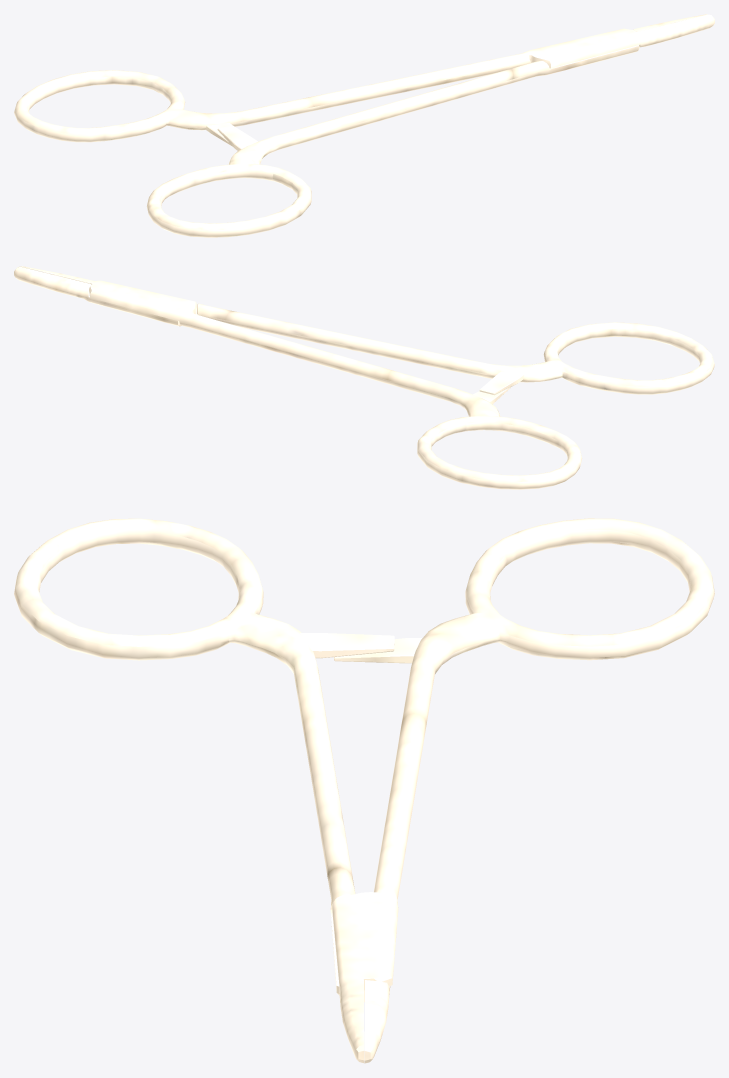
File: SM_OPR_Needle_Holder_01.fbx
The picture shows the model from 3 angles, top to bottom: view 1: azimuth 30°, elevation 25°; view 2: azimuth 150°, elevation 25°; view 3: azimuth 270°, elevation 25°; orthographic projection. The views are drawn at different scales.
Visible parts, largest first — view 1: SM_OPR_Needle_Holder_01_LOD0; view 2: SM_OPR_Needle_Holder_01_LOD0; view 3: SM_OPR_Needle_Holder_01_LOD0.
Boxes of the visible parts, x1=… form: SM_OPR_Needle_Holder_01_LOD0: x1=14, y1=14, x2=714, y2=237; SM_OPR_Needle_Holder_01_LOD0: x1=14, y1=266, x2=714, y2=489; SM_OPR_Needle_Holder_01_LOD0: x1=14, y1=518, x2=714, y2=1063.
Bounding box in the file's own units: 13.99 × 7.82 × 0.2877.
1 material, 1 textured.
